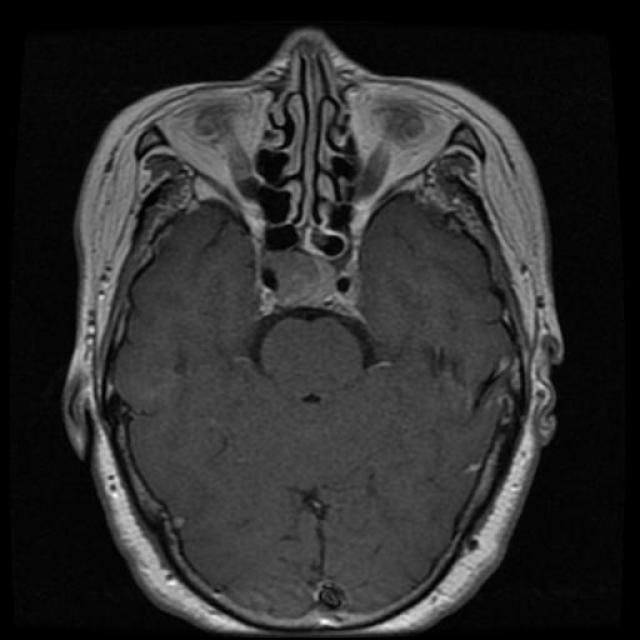pituitary: (252, 254, 365, 318)
